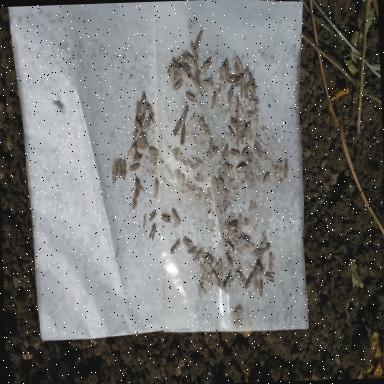pbw: (193, 26, 206, 50), (134, 175, 146, 199), (189, 38, 200, 64), (169, 233, 181, 256), (190, 72, 202, 94), (200, 56, 214, 74), (170, 76, 184, 94), (173, 50, 187, 68), (136, 131, 148, 152), (178, 123, 188, 148), (151, 176, 161, 201), (126, 142, 138, 162), (160, 208, 172, 228), (244, 268, 254, 292), (140, 113, 154, 130), (109, 158, 118, 184), (210, 89, 220, 112), (209, 269, 221, 288), (224, 219, 240, 233), (128, 160, 142, 176), (225, 84, 236, 104), (265, 252, 276, 272), (222, 272, 233, 292), (196, 282, 205, 306), (260, 168, 272, 186), (164, 57, 176, 75), (166, 63, 175, 87), (119, 159, 128, 183), (258, 241, 272, 256), (128, 150, 144, 163), (264, 270, 277, 286), (282, 156, 290, 182), (227, 114, 239, 131), (148, 222, 158, 242), (171, 207, 181, 227), (180, 104, 190, 124), (174, 65, 188, 79), (184, 50, 196, 66), (216, 256, 224, 280), (192, 58, 200, 82), (246, 82, 258, 98), (132, 100, 142, 119), (171, 119, 182, 136), (193, 246, 204, 263), (223, 56, 231, 79), (252, 273, 260, 296), (201, 251, 214, 265), (225, 72, 238, 86), (130, 192, 139, 212), (236, 268, 246, 286), (145, 102, 154, 122), (234, 56, 244, 74), (225, 250, 234, 270), (242, 124, 250, 146), (140, 90, 148, 112), (258, 276, 266, 298), (202, 258, 213, 274), (252, 261, 262, 278), (184, 89, 196, 103), (239, 232, 251, 246), (146, 210, 158, 224), (224, 240, 235, 255), (241, 66, 250, 84), (222, 142, 230, 162), (184, 64, 192, 84), (132, 118, 142, 134), (253, 142, 263, 158), (117, 153, 123, 179), (232, 75, 245, 87), (242, 81, 249, 103), (246, 95, 260, 106), (208, 136, 216, 155), (234, 94, 240, 118), (148, 146, 160, 158), (248, 72, 256, 90), (217, 64, 225, 82), (220, 162, 232, 174), (230, 146, 240, 160), (233, 62, 241, 79), (186, 244, 198, 255), (182, 237, 193, 249), (238, 126, 244, 148), (252, 248, 264, 259), (236, 163, 249, 173), (226, 127, 236, 140), (243, 110, 254, 121), (234, 130, 240, 150), (238, 80, 244, 100), (240, 144, 250, 156), (140, 214, 147, 231), (221, 65, 228, 82), (209, 144, 219, 154)
